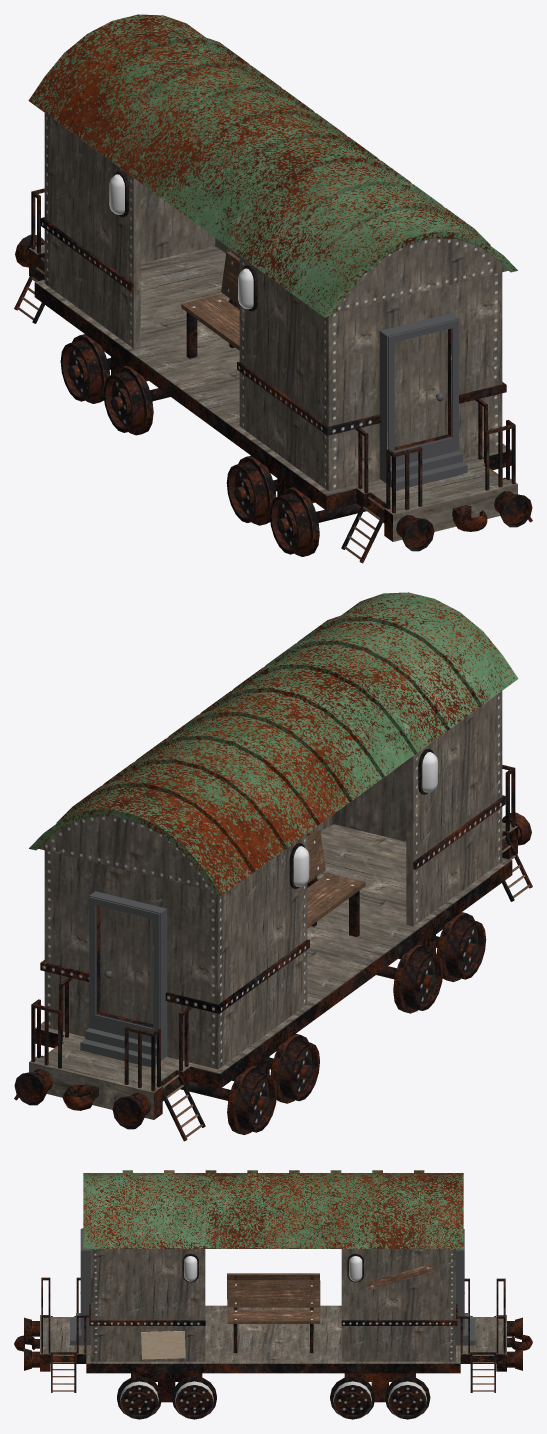
File: CW_lvl_1.fbx
3 renders of one model, top to bottom at view 1: azimuth 30°, elevation 25°; view 2: azimuth 150°, elevation 25°; view 3: azimuth 270°, elevation 25°, orthographic. The views are drawn at different scales.
Parts seen in each view (by area): view 1: Cube_001, ________010, ________010.002, ________010.001, ________010.003; view 2: Cube_001, ________010.003, ________010.001, ________010.002, ________010; view 3: Cube_001, ________010.002, ________010.003, ________010, ________010.001.
Part boxes in pixels (x1,y1,x2,y2): Cube_001: (14, 14, 532, 563); ________010: (269, 487, 366, 556); ________010.002: (103, 365, 170, 435); ________010.001: (226, 455, 277, 525); ________010.003: (60, 334, 110, 403); Cube_001: (14, 592, 532, 1141); ________010.003: (180, 1065, 277, 1134); ________010.001: (376, 943, 443, 1013); ________010.002: (269, 1034, 319, 1103); ________010: (436, 912, 486, 981); Cube_001: (14, 1170, 532, 1402); ________010.002: (330, 1376, 375, 1419); ________010.003: (385, 1376, 430, 1419); ________010: (117, 1376, 161, 1419); ________010.001: (172, 1376, 216, 1419).
Bounding box in the file's own units: 228 × 367 × 801.
Materials: 2 (1 with a texture image).
